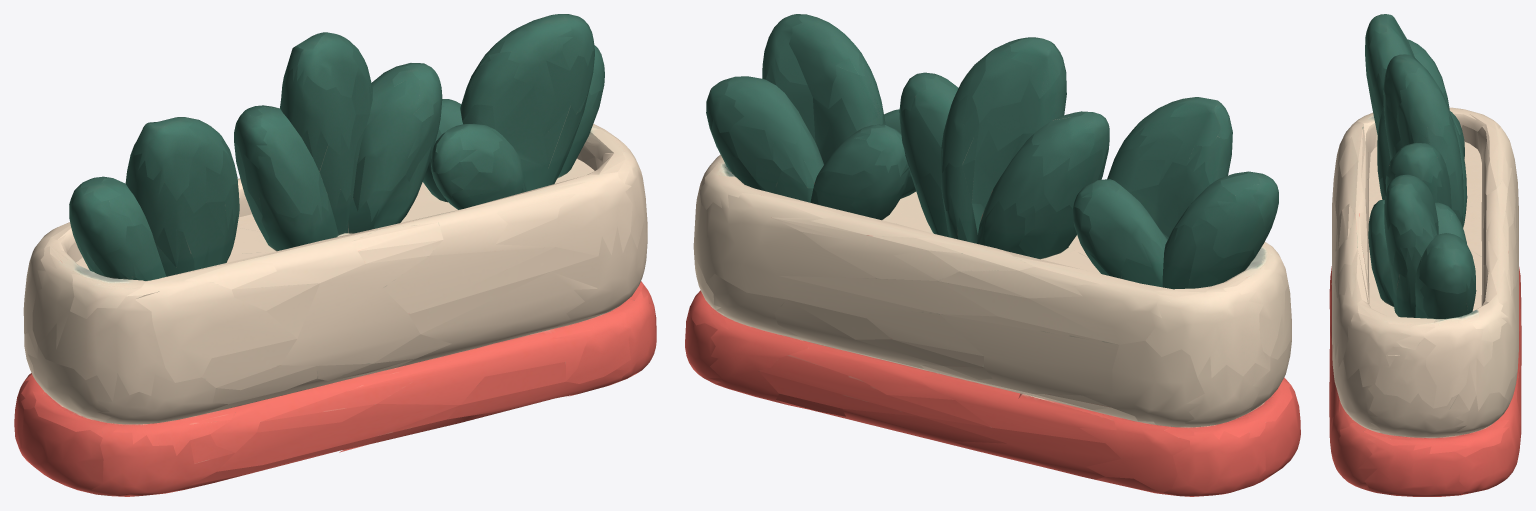
File: restaurant-planter-partition.glb
3 renders of one model, left to right at view 1: azimuth 30°, elevation 25°; view 2: azimuth 150°, elevation 25°; view 3: azimuth 270°, elevation 25°, orthographic. The views are drawn at different scales.
Parts seen in each view (by area): view 1: Mesh_0; view 2: Mesh_0; view 3: Mesh_0.
Part boxes in pixels (x1=…): Mesh_0: x1=14, y1=14, x2=656, y2=496; Mesh_0: x1=685, y1=14, x2=1300, y2=496; Mesh_0: x1=1329, y1=14, x2=1521, y2=496.
Bounding box in the file's own units: 1.33 × 0.8024 × 0.45.
Materials: 1 (1 with a texture image).
